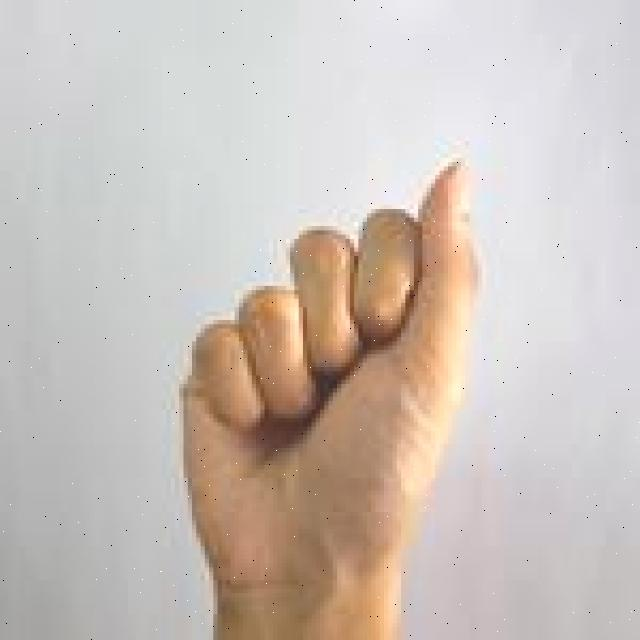A: (179, 144, 498, 640)
